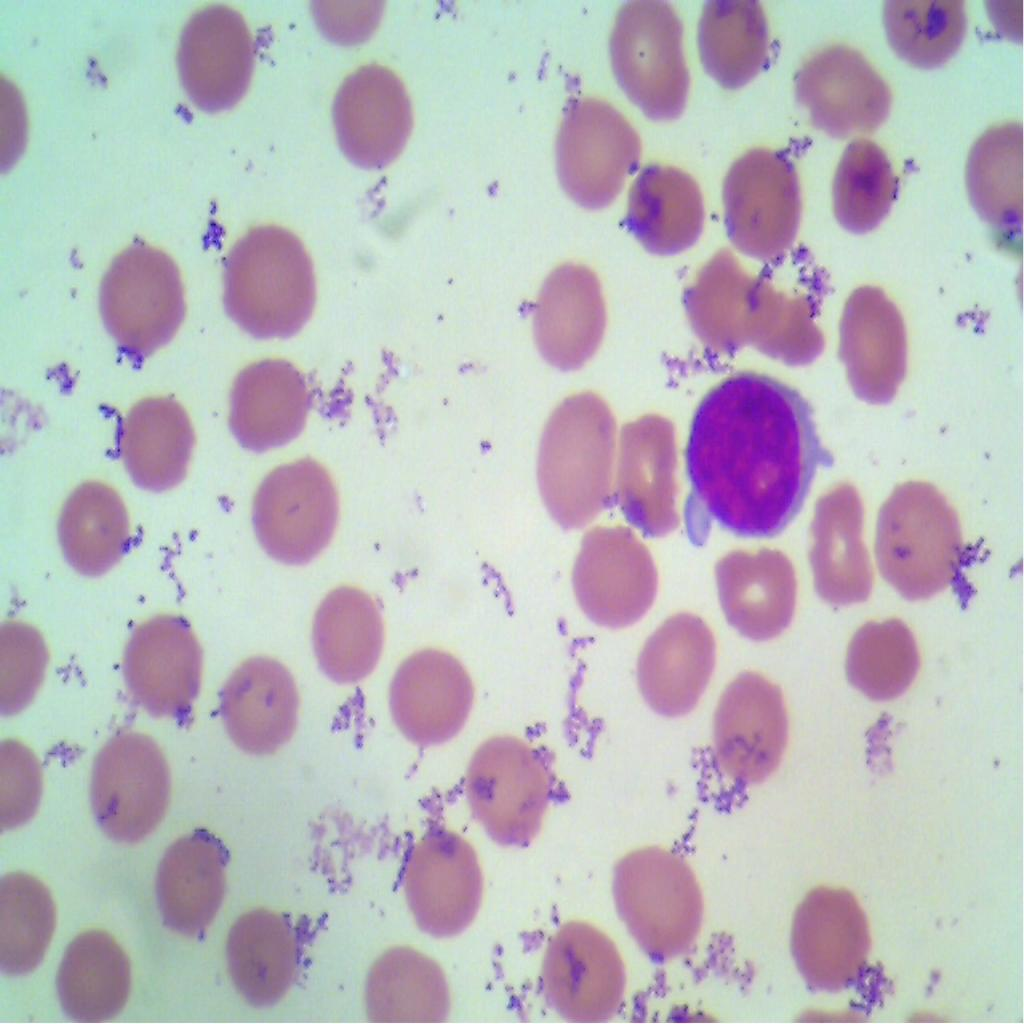Eritrosit: (530, 384, 620, 528), (598, 0, 700, 124), (93, 239, 191, 365), (246, 448, 344, 574), (789, 38, 895, 150), (548, 89, 646, 210), (393, 826, 493, 944), (330, 50, 422, 175), (611, 841, 709, 958), (122, 604, 211, 730), (873, 479, 964, 600), (719, 134, 803, 264), (463, 728, 551, 852), (224, 221, 318, 337), (523, 249, 611, 372), (378, 642, 476, 748), (610, 410, 689, 538), (293, 574, 384, 685), (839, 278, 913, 414), (90, 716, 169, 842), (706, 668, 796, 778), (789, 877, 873, 994), (801, 475, 873, 611), (631, 605, 716, 718), (826, 131, 906, 251), (173, 0, 256, 115), (569, 524, 663, 624), (538, 917, 626, 1023), (221, 902, 304, 1014), (686, 241, 766, 355), (50, 920, 138, 1023), (56, 474, 138, 584), (838, 612, 928, 712), (618, 155, 706, 257), (151, 829, 229, 944), (224, 348, 310, 452), (216, 651, 299, 758), (715, 542, 798, 648), (738, 287, 833, 379), (118, 397, 203, 495), (355, 939, 453, 1023), (692, 0, 778, 92)
Limfoblast: (684, 374, 824, 541)
